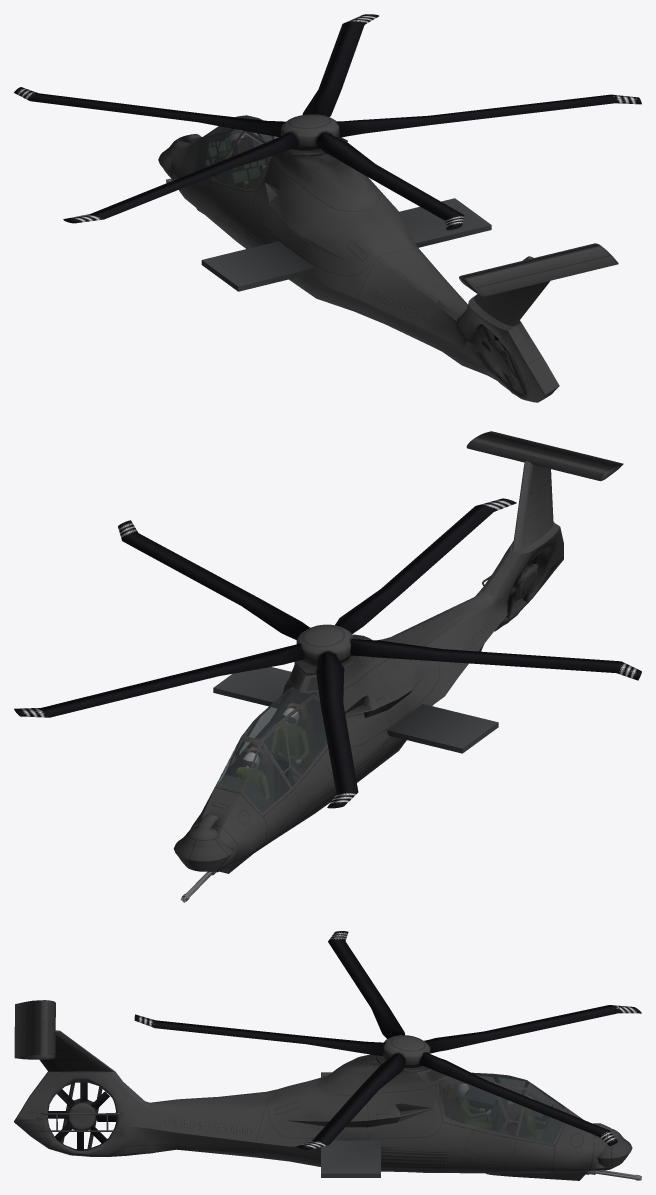
Rendered from h_rah66.glb.
3 views of the same model, one above another, from view 1: azimuth 30°, elevation 25°; view 2: azimuth 150°, elevation 25°; view 3: azimuth 270°, elevation 25° (orthographic). The views are drawn at different scales.
Visible parts, largest first — view 1: body|fuzelag-FACES, body|default#wing (×2), body|glass (×2), body|Cylinder01-FACES, rotor|Cylinder07-FACES, rotor|Cylinder06-FACES_1, rotor|Cylinder06-FACES_0, rotor|Cylinder06-FACES, rotor|Cylinder06-FACES_2, body|kabuna_vnutr-FACES, rotor|Cylinder09-FACES, body|Cylinder02-FACES; view 2: body|fuzelag-FACES, body|glass (×2), body|default#wing (×2), rotor|Cylinder06-FACES_0, rotor|Cylinder06-FACES_2, rotor|Cylinder06-FACES, rotor|Cylinder06-FACES_1, rotor|Cylinder07-FACES, body|Cylinder01-FACES, body|kabuna_vnutr-FACES, body|Cylinder02-FACES, rotor|Cylinder09-FACES; view 3: body|fuzelag-FACES, body|glass (×2), rotor|Cylinder06-FACES_2, body|Cylinder01-FACES, rotor|Cylinder06-FACES_1, rotor|Cylinder06-FACES, body|default#wing, rotor|Cylinder07-FACES, rotor|Cylinder06-FACES_0, body|kabuna_vnutr-FACES, rotor|Cylinder09-FACES, body|Cylinder02-FACES (+2 smaller).
Boxes of the visible parts, left/top/right/bottom form: body|fuzelag-FACES: left=170, top=115, right=559, bottom=402; body|default#wing (×2): left=201, top=198, right=491, bottom=291; body|glass (×2): left=195, top=115, right=278, bottom=187; body|Cylinder01-FACES: left=459, top=243, right=618, bottom=296; rotor|Cylinder07-FACES: left=336, top=94, right=641, bottom=137; rotor|Cylinder06-FACES_1: left=14, top=87, right=285, bottom=136; rotor|Cylinder06-FACES_0: left=63, top=132, right=297, bottom=223; rotor|Cylinder06-FACES: left=316, top=132, right=464, bottom=230; rotor|Cylinder06-FACES_2: left=302, top=14, right=378, bottom=116; body|kabuna_vnutr-FACES: left=195, top=116, right=273, bottom=186; rotor|Cylinder09-FACES: left=281, top=114, right=339, bottom=150; body|Cylinder02-FACES: left=158, top=134, right=201, bottom=179; body|fuzelag-FACES: left=187, top=461, right=563, bottom=873; body|glass (×2): left=217, top=689, right=326, bottom=812; body|default#wing (×2): left=213, top=667, right=498, bottom=753; rotor|Cylinder06-FACES_0: left=350, top=639, right=641, bottom=680; rotor|Cylinder06-FACES_2: left=14, top=644, right=303, bottom=717; rotor|Cylinder06-FACES: left=335, top=498, right=516, bottom=633; rotor|Cylinder06-FACES_1: left=316, top=651, right=358, bottom=808; rotor|Cylinder07-FACES: left=118, top=520, right=309, bottom=639; body|Cylinder01-FACES: left=466, top=431, right=623, bottom=481; body|kabuna_vnutr-FACES: left=218, top=689, right=326, bottom=811; body|Cylinder02-FACES: left=173, top=814, right=233, bottom=871; rotor|Cylinder09-FACES: left=296, top=624, right=353, bottom=666; body|fuzelag-FACES: left=14, top=1030, right=621, bottom=1180; body|glass (×2): left=442, top=1073, right=564, bottom=1142; rotor|Cylinder06-FACES_2: left=420, top=1052, right=617, bottom=1145; body|Cylinder01-FACES: left=14, top=1000, right=55, bottom=1059; rotor|Cylinder06-FACES_1: left=424, top=1005, right=641, bottom=1053; rotor|Cylinder06-FACES: left=134, top=1014, right=384, bottom=1056; body|default#wing: left=321, top=1140, right=380, bottom=1177; rotor|Cylinder07-FACES: left=296, top=1053, right=405, bottom=1149; rotor|Cylinder06-FACES_0: left=328, top=931, right=404, bottom=1038; body|kabuna_vnutr-FACES: left=443, top=1073, right=564, bottom=1142; rotor|Cylinder09-FACES: left=383, top=1035, right=430, bottom=1068; body|Cylinder02-FACES: left=593, top=1123, right=632, bottom=1167.
Size of the model in its own units: 11.34 by 3.71 by 13.6.
74 materials, 23 textured.
